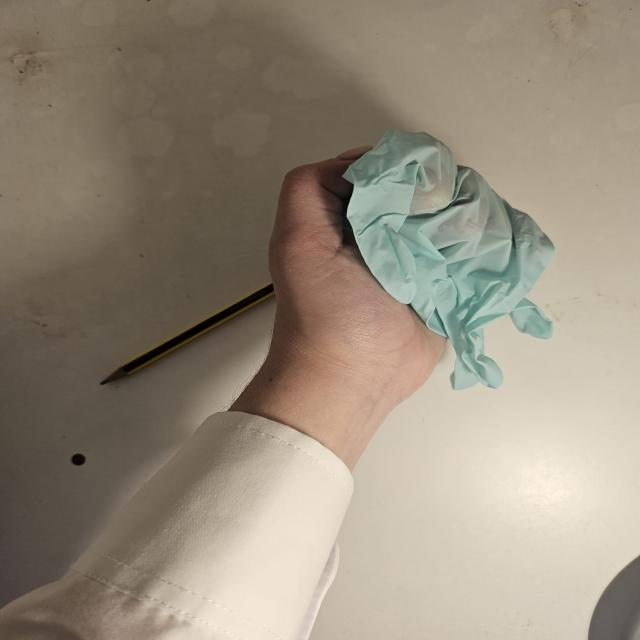glove_partial: (272, 128, 558, 390)
